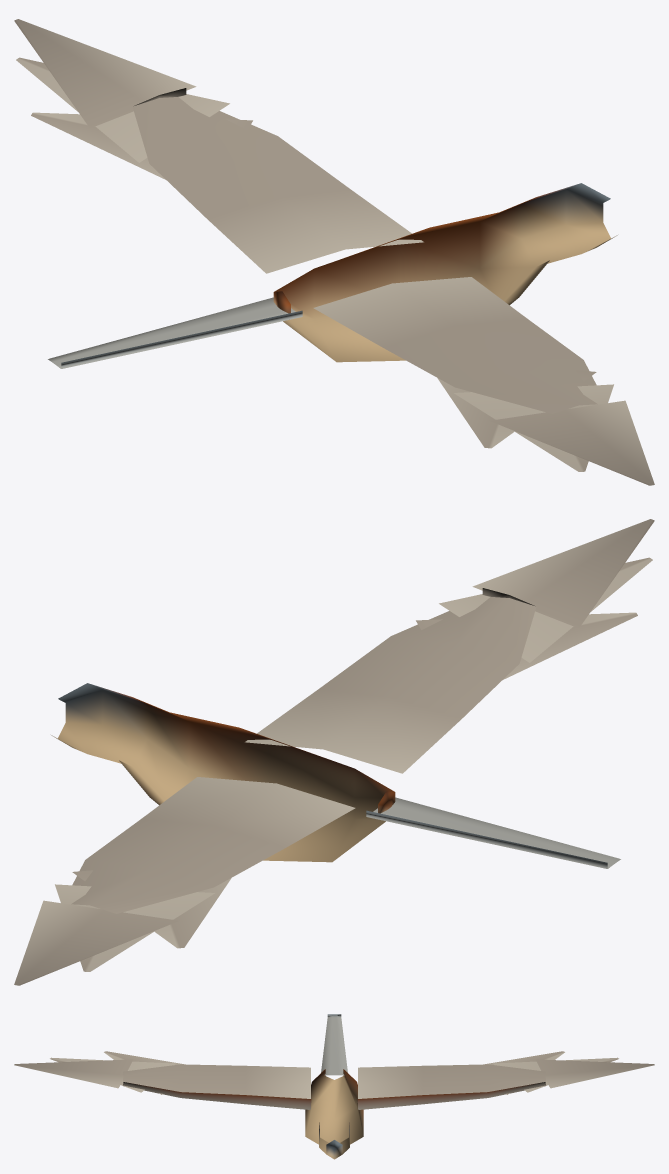
File: SM_Bird_kestrel_glide_LOD2.glb
The picture shows the model from 3 angles, top to bottom: view 1: azimuth 30°, elevation 25°; view 2: azimuth 150°, elevation 25°; view 3: azimuth 270°, elevation 25°; orthographic projection. The views are drawn at different scales.
Visible parts, largest first — view 1: SM_Bird_kestrel_glide_LOD2; view 2: SM_Bird_kestrel_glide_LOD2; view 3: SM_Bird_kestrel_glide_LOD2.
Part boxes in pixels (bbox=[...]): SM_Bird_kestrel_glide_LOD2: bbox=[14, 19, 654, 485]; SM_Bird_kestrel_glide_LOD2: bbox=[14, 519, 654, 985]; SM_Bird_kestrel_glide_LOD2: bbox=[14, 1014, 654, 1159].
Size of the model in its own units: 0.3642 by 0.0873 by 0.7194.
